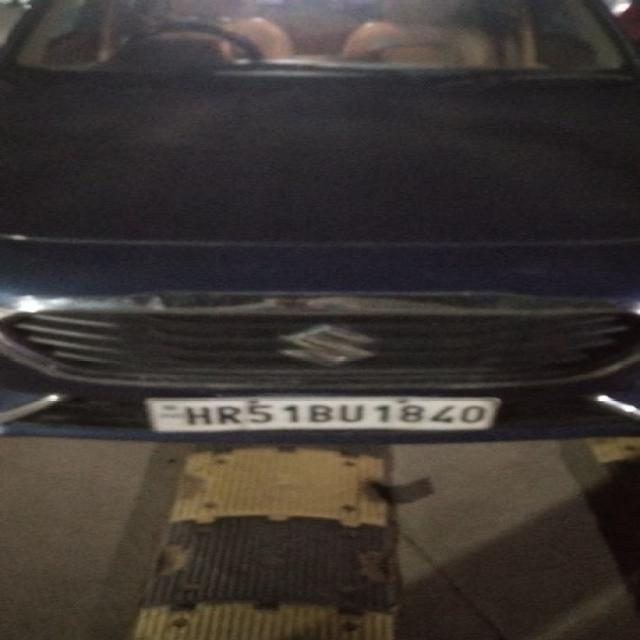license_plate: (1, 289, 638, 393), (141, 394, 502, 433)
